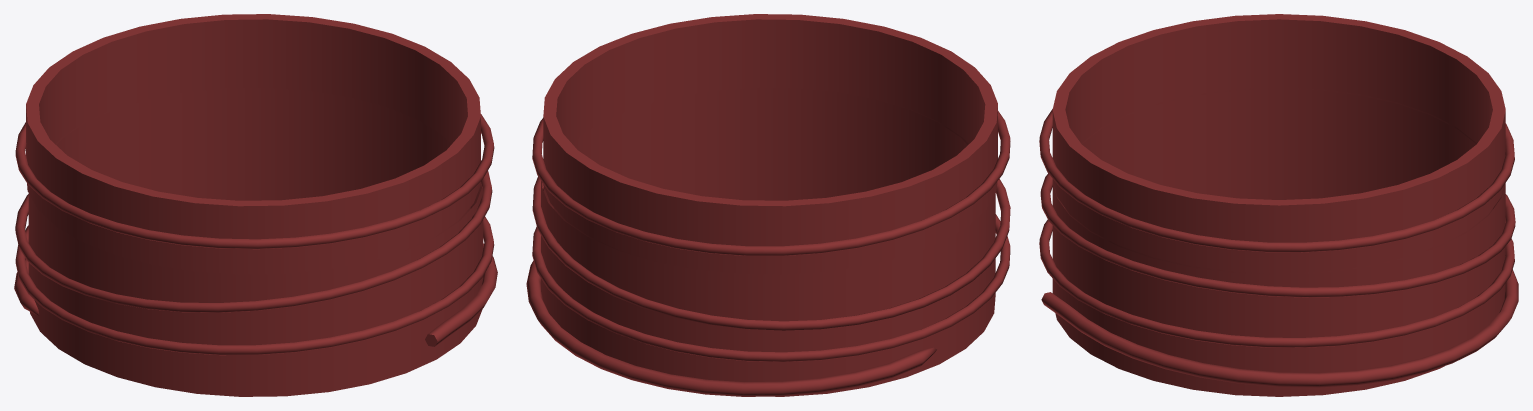
The model's file is SM_WiresPack02.fbx.
The picture shows the model from 3 angles, left to right: view 1: azimuth 30°, elevation 25°; view 2: azimuth 150°, elevation 25°; view 3: azimuth 270°, elevation 25°; orthographic projection.
Parts seen in each view (by area): view 1: WiresPack02; view 2: WiresPack02; view 3: WiresPack02.
Part boxes in pixels (box(x1,y1,x2,y2)): WiresPack02: box(14, 14, 497, 396); WiresPack02: box(526, 14, 1010, 396); WiresPack02: box(1039, 14, 1518, 396).
Bounding box in the file's own units: 84.66 × 36.95 × 84.34.
